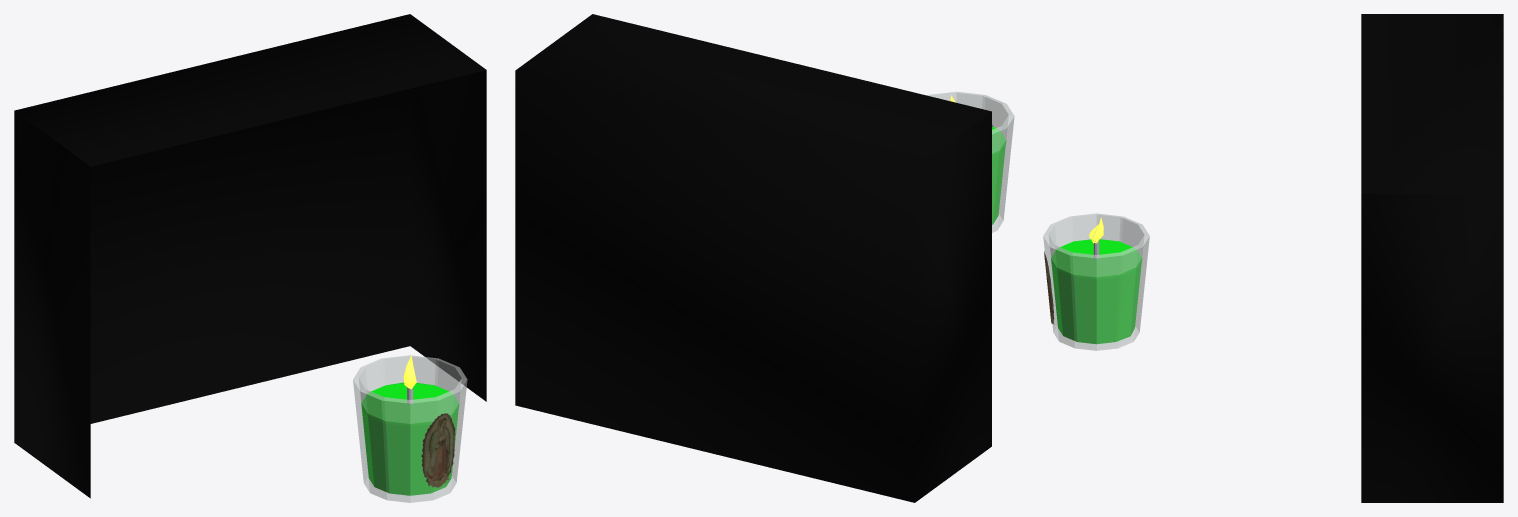
The model's file is tinyVotivePolaroid.glb.
3 views of the same model, side by side, from view 1: azimuth 30°, elevation 25°; view 2: azimuth 150°, elevation 25°; view 3: azimuth 270°, elevation 25° (orthographic). The views are drawn at different scales.
Parts seen in each view (by area): view 1: Box, glass, XBase, senora; view 2: Box, glass, XBase; view 3: Box, glass, XBase.
Part boxes in pixels (x1,y1,x2,y2): Box: [14, 14, 486, 498]; glass: [353, 355, 467, 502]; XBase: [361, 382, 459, 495]; senora: [421, 413, 455, 487]; Box: [515, 14, 991, 502]; glass: [927, 91, 1014, 232]; XBase: [992, 126, 1006, 224]; Box: [1361, 14, 1503, 502]; glass: [1043, 213, 1149, 350]; XBase: [1051, 239, 1142, 344].
Size of the model in its own units: 5.87 by 4.71 by 6.35.
Materials: 6 (1 with a texture image).
